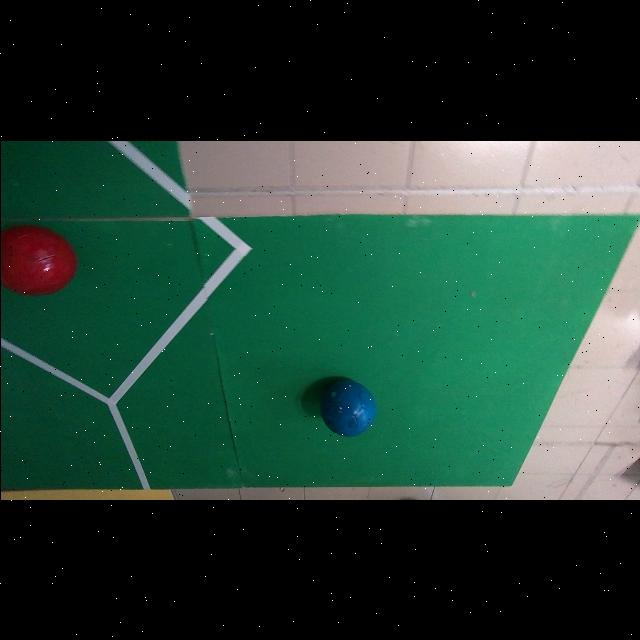B: (319, 380, 376, 437)
R: (0, 225, 77, 295)
